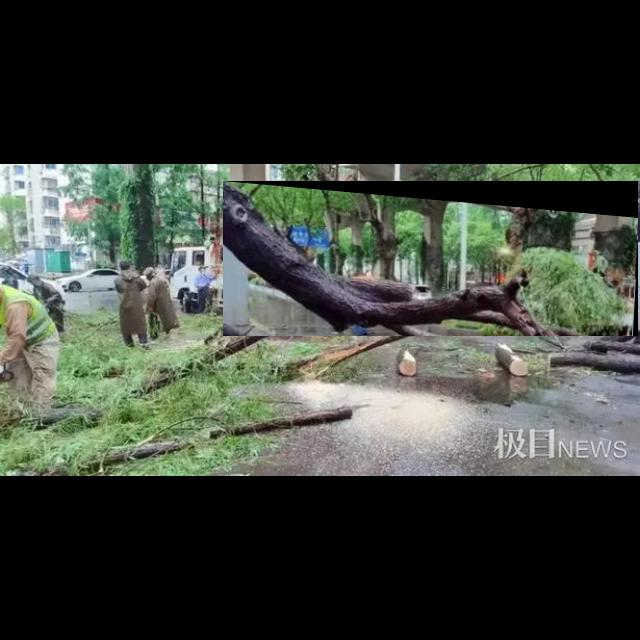Fallen Tree: (223, 181, 639, 337)
